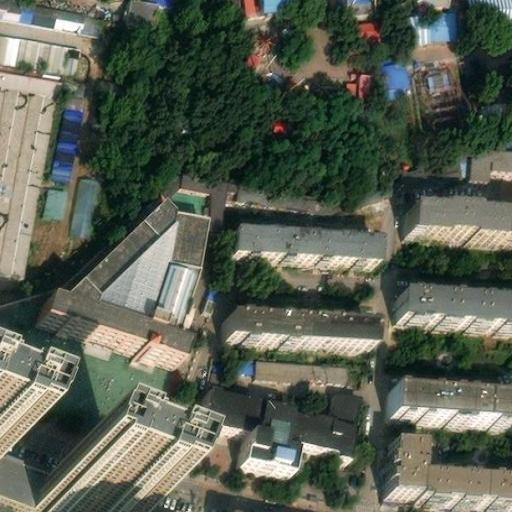building: (42, 209, 212, 355), (205, 381, 359, 447), (382, 430, 512, 501), (230, 184, 379, 221), (234, 229, 378, 264), (224, 311, 373, 344), (397, 285, 512, 325), (392, 381, 512, 418), (409, 197, 512, 237), (40, 471, 139, 512), (0, 31, 78, 78), (49, 86, 85, 177), (249, 427, 307, 471), (69, 167, 106, 232), (0, 63, 65, 96), (124, 0, 172, 34), (409, 5, 461, 33), (469, 143, 512, 175), (383, 59, 413, 98), (44, 178, 71, 216), (335, 383, 364, 413), (349, 65, 376, 97), (358, 10, 389, 37), (474, 0, 512, 18), (422, 61, 449, 86), (247, 0, 294, 11)
